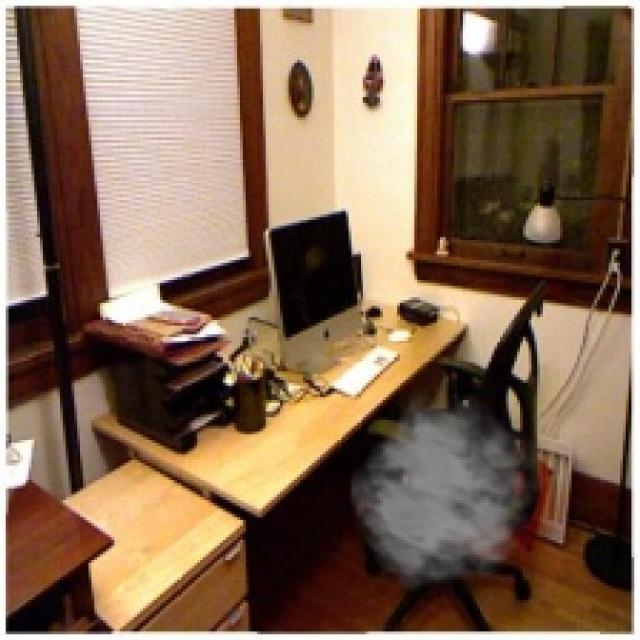smoke: (348, 388, 548, 592)
